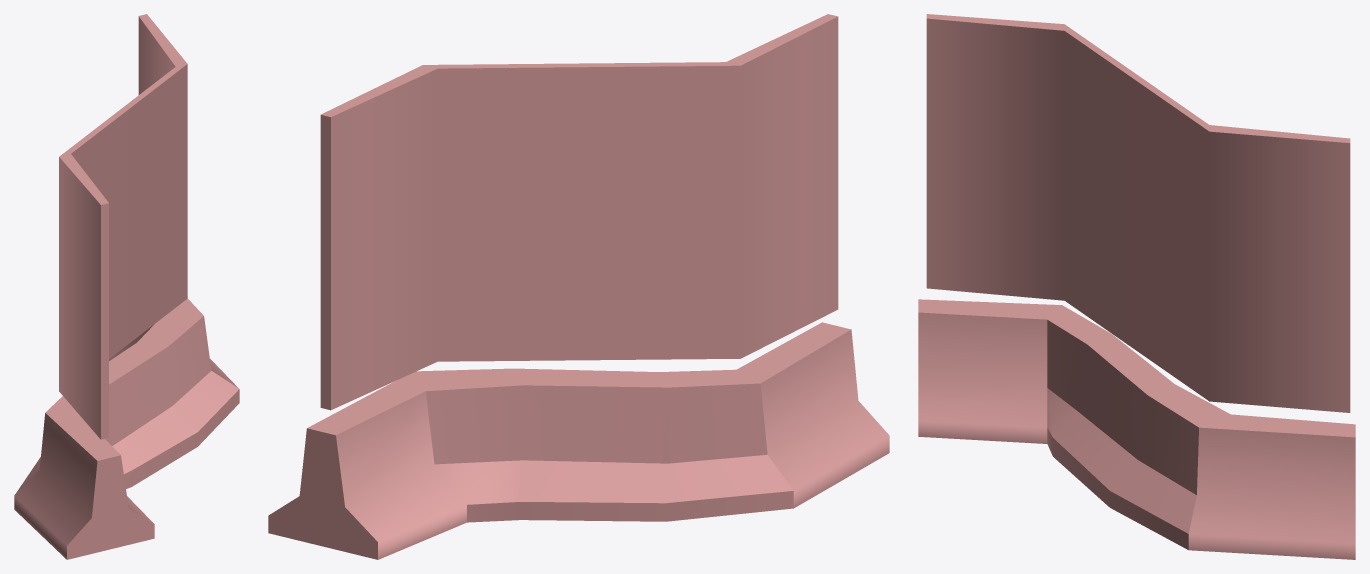
File: Fence_C_B_COL.fbx
3 views of the same model, side by side, from view 1: azimuth 30°, elevation 25°; view 2: azimuth 150°, elevation 25°; view 3: azimuth 270°, elevation 25° (orthographic). The views are drawn at different scales.
Parts seen in each view (by area): view 1: Fence_C_B_COL; view 2: Fence_C_B_COL; view 3: Fence_C_B_COL.
Part boxes in pixels (x1,y1,x2,y2): Fence_C_B_COL: (14,14,239,559); Fence_C_B_COL: (268,14,889,559); Fence_C_B_COL: (918,14,1355,559).
Size of the model in its own units: 280 by 299 by 300.
